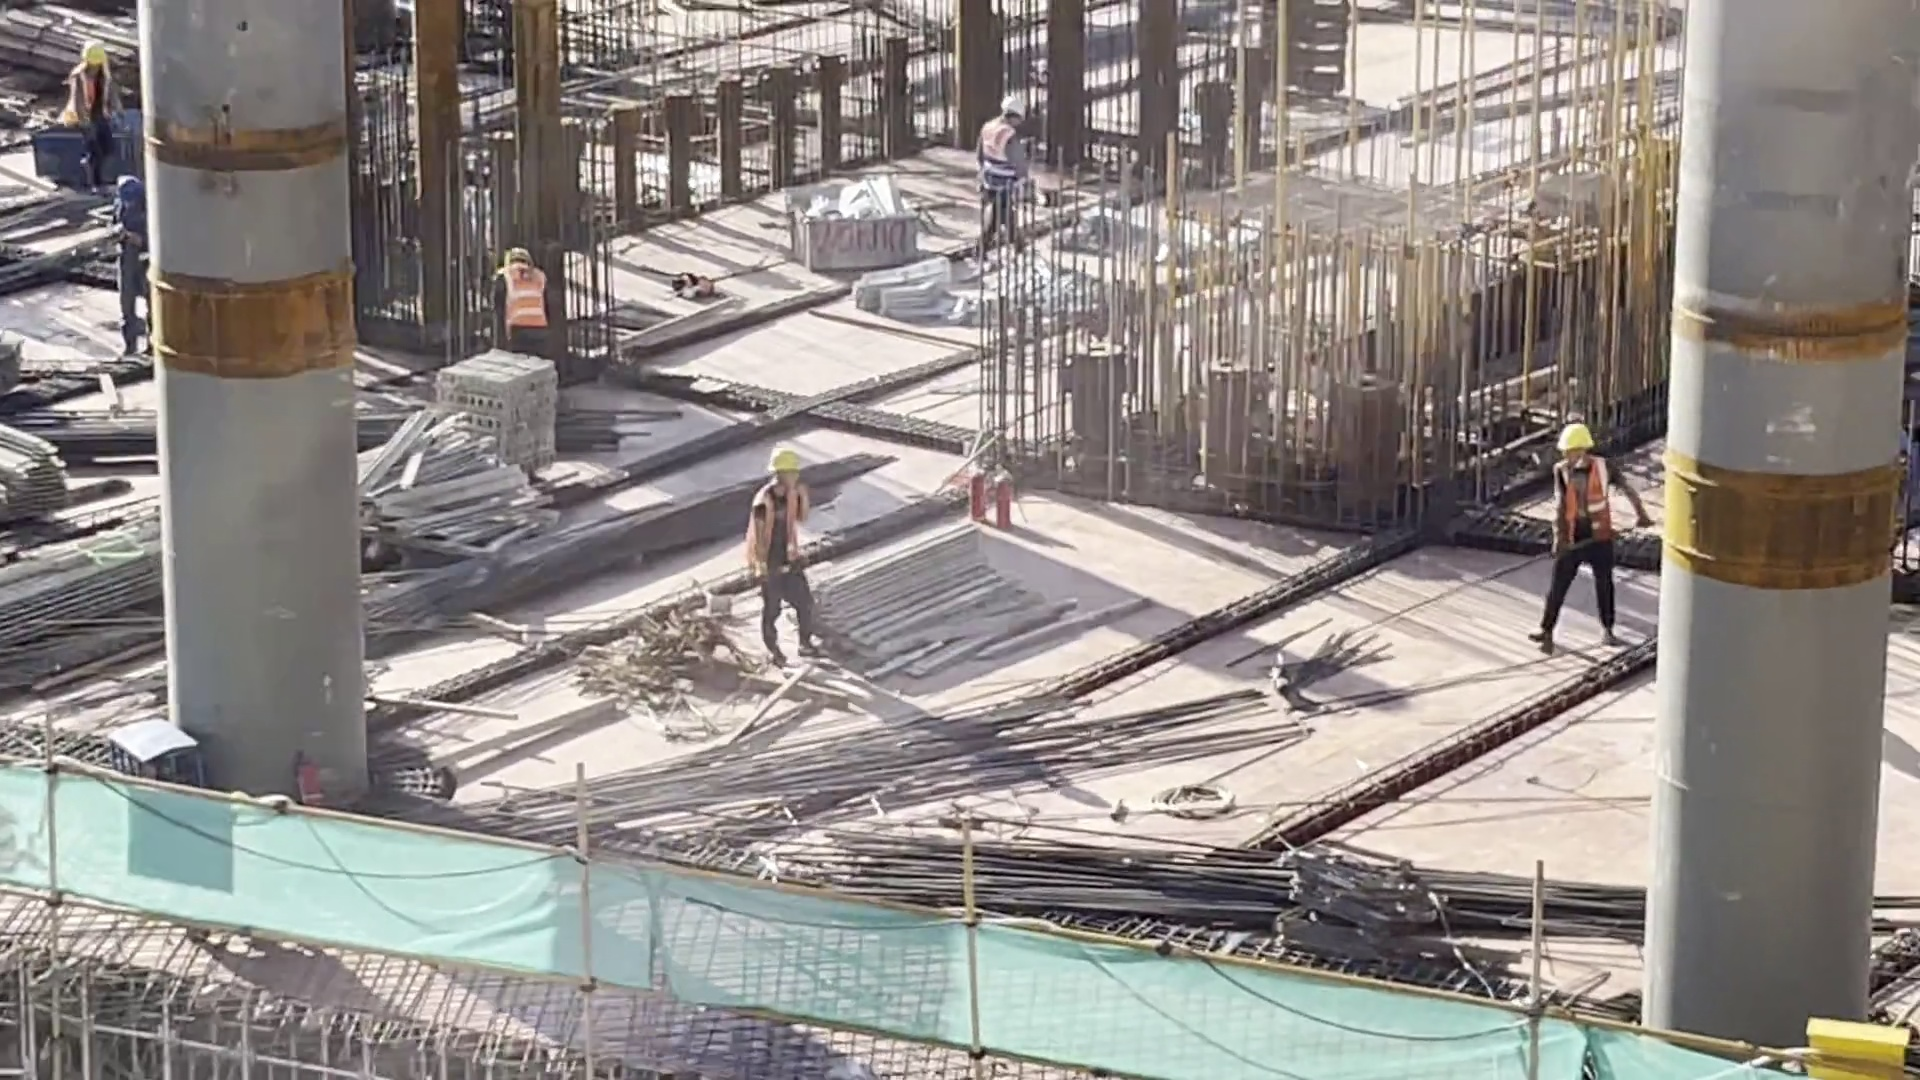helmet: (1555, 420, 1597, 455), (1000, 89, 1031, 122), (74, 42, 108, 72), (770, 449, 809, 471), (116, 168, 145, 196)
hopper: (769, 168, 936, 283)
person: (1543, 415, 1622, 642), (756, 428, 811, 646), (963, 94, 1041, 242), (52, 31, 123, 168), (482, 226, 544, 378), (104, 164, 151, 352)
vest: (1546, 450, 1629, 555), (750, 470, 808, 567), (489, 261, 545, 329), (987, 122, 1016, 190)
wood: (795, 520, 1017, 663)
